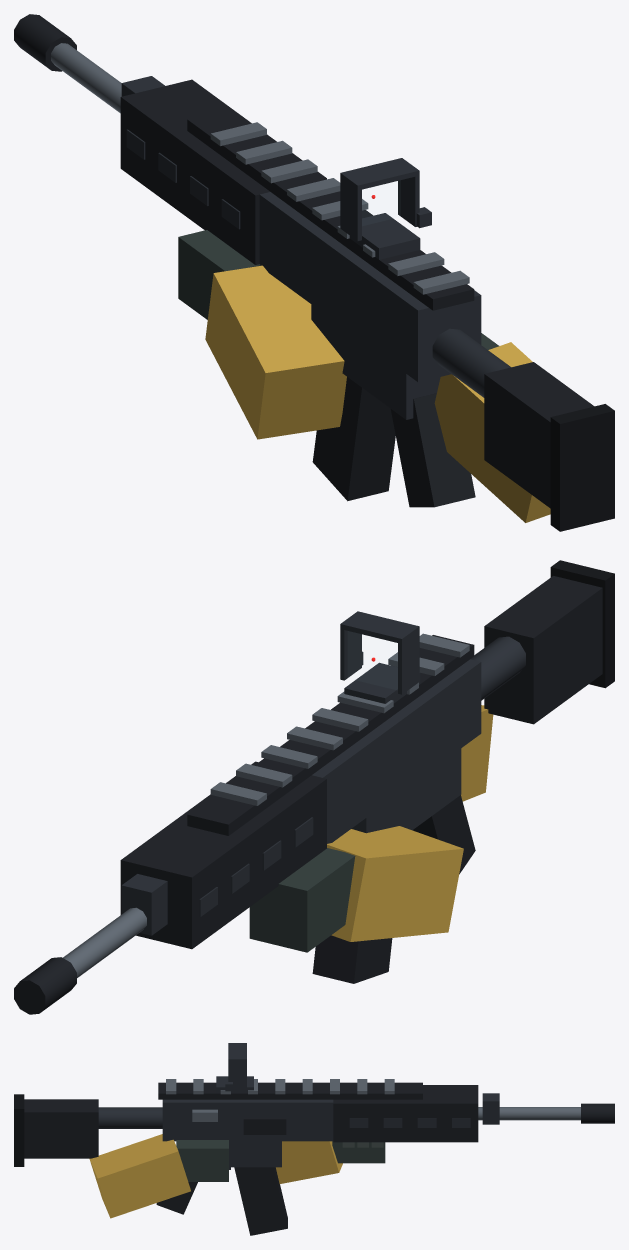
Rendered from spray_rifle.glb.
The picture shows the model from 3 angles, top to bottom: view 1: azimuth 30°, elevation 25°; view 2: azimuth 150°, elevation 25°; view 3: azimuth 270°, elevation 25°; orthographic projection. The views are drawn at different scales.
Parts seen in each view (by area): view 1: _MeshInstance3D_3423, _MeshInstance3D_3386, _MeshInstance3D_3400, _MeshInstance3D_3412, _MeshInstance3D_3413, _MeshInstance3D_3388, Magazine, _MeshInstance3D_3429, _MeshInstance3D_3409, _MeshInstance3D_3387, _MeshInstance3D_3422, _MeshInstance3D_3411 (+12 smaller); view 2: _MeshInstance3D_3400, _MeshInstance3D_3386, _MeshInstance3D_3412, _MeshInstance3D_3423, _MeshInstance3D_3422, _MeshInstance3D_3388, _MeshInstance3D_3387, Magazine, _MeshInstance3D_3413, _MeshInstance3D_3407, _MeshInstance3D_3405, _MeshInstance3D_3406 (+13 smaller); view 3: _MeshInstance3D_3400, _MeshInstance3D_3386, _MeshInstance3D_3429, _MeshInstance3D_3412, _MeshInstance3D_3388, Magazine, _MeshInstance3D_3423, _MeshInstance3D_3428, _MeshInstance3D_3387, _MeshInstance3D_3411, _MeshInstance3D_3405, _MeshInstance3D_3422 (+9 smaller).
Boxes of the visible parts, x1,y1,x2,y2 form: _MeshInstance3D_3423: (205, 265, 346, 439); _MeshInstance3D_3386: (259, 192, 481, 382); _MeshInstance3D_3400: (120, 79, 326, 264); _MeshInstance3D_3412: (484, 362, 594, 508); _MeshInstance3D_3413: (550, 404, 614, 531); _MeshInstance3D_3388: (187, 109, 474, 310); Magazine: (312, 377, 395, 501); _MeshInstance3D_3429: (434, 342, 550, 522); _MeshInstance3D_3409: (390, 393, 475, 507); _MeshInstance3D_3387: (311, 304, 440, 419); _MeshInstance3D_3422: (178, 230, 260, 319); _MeshInstance3D_3411: (432, 328, 510, 397); _MeshInstance3D_3400: (120, 761, 326, 949); _MeshInstance3D_3386: (312, 659, 481, 843); _MeshInstance3D_3412: (484, 576, 602, 724); _MeshInstance3D_3423: (327, 826, 463, 941); _MeshInstance3D_3422: (249, 848, 355, 952); _MeshInstance3D_3388: (187, 635, 474, 835); _MeshInstance3D_3387: (351, 748, 461, 833); Magazine: (312, 935, 392, 983); _MeshInstance3D_3413: (550, 560, 614, 688); _MeshInstance3D_3407: (14, 957, 76, 1014); _MeshInstance3D_3405: (63, 907, 146, 977); _MeshInstance3D_3406: (121, 874, 167, 935); _MeshInstance3D_3400: (333, 1085, 478, 1142); _MeshInstance3D_3386: (162, 1099, 333, 1141); _MeshInstance3D_3429: (89, 1134, 190, 1218); _MeshInstance3D_3412: (24, 1099, 98, 1158); _MeshInstance3D_3388: (158, 1082, 422, 1099); Magazine: (234, 1167, 287, 1235); _MeshInstance3D_3423: (276, 1141, 342, 1183); _MeshInstance3D_3428: (176, 1140, 228, 1181); _MeshInstance3D_3387: (229, 1141, 281, 1167); _MeshInstance3D_3411: (98, 1107, 162, 1128); _MeshInstance3D_3405: (478, 1107, 580, 1120); _MeshInstance3D_3422: (332, 1141, 385, 1163).
Size of the model in its own units: 0.1445 by 0.2319 by 0.704.
